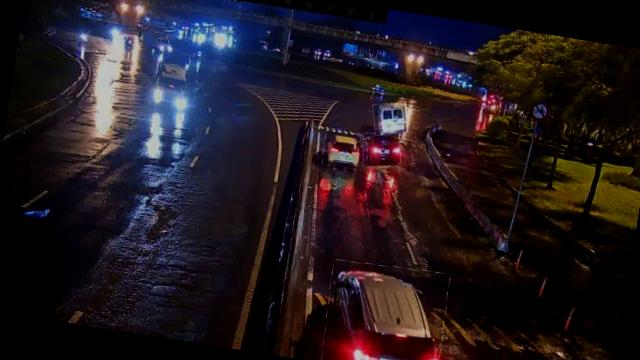Bus: (370, 99, 411, 138)
Car: (318, 256, 452, 360), (359, 128, 404, 171), (321, 128, 362, 170)
Truck: (154, 50, 190, 109)
